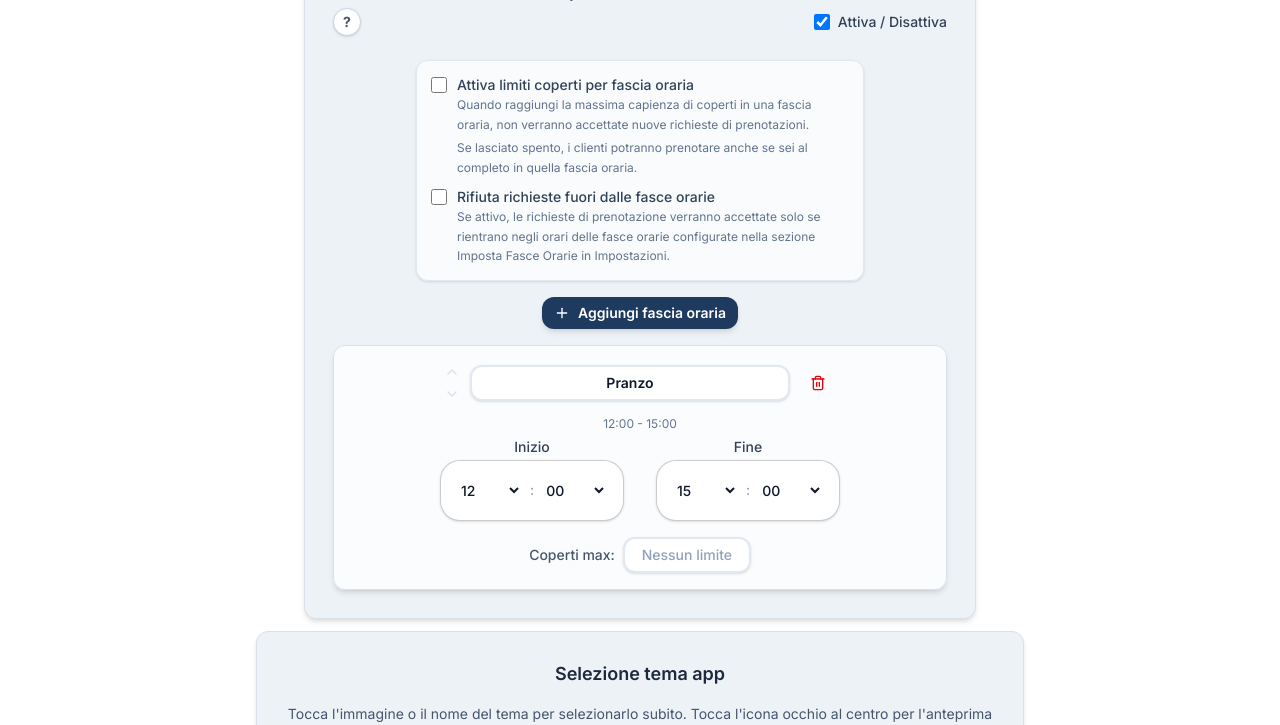
Scenario: settings-time-slots M4 — fasce Classic in RestaurantSettingsTab › elimina fascia: Conferma rimuove la riga dall’editor
The width and height of the screenshot is (1280, 725).
(page scrolled)
Click the button named "rimuovi fascia pranzo". click: coordinates (818, 383)
box: [798, 369, 838, 397]
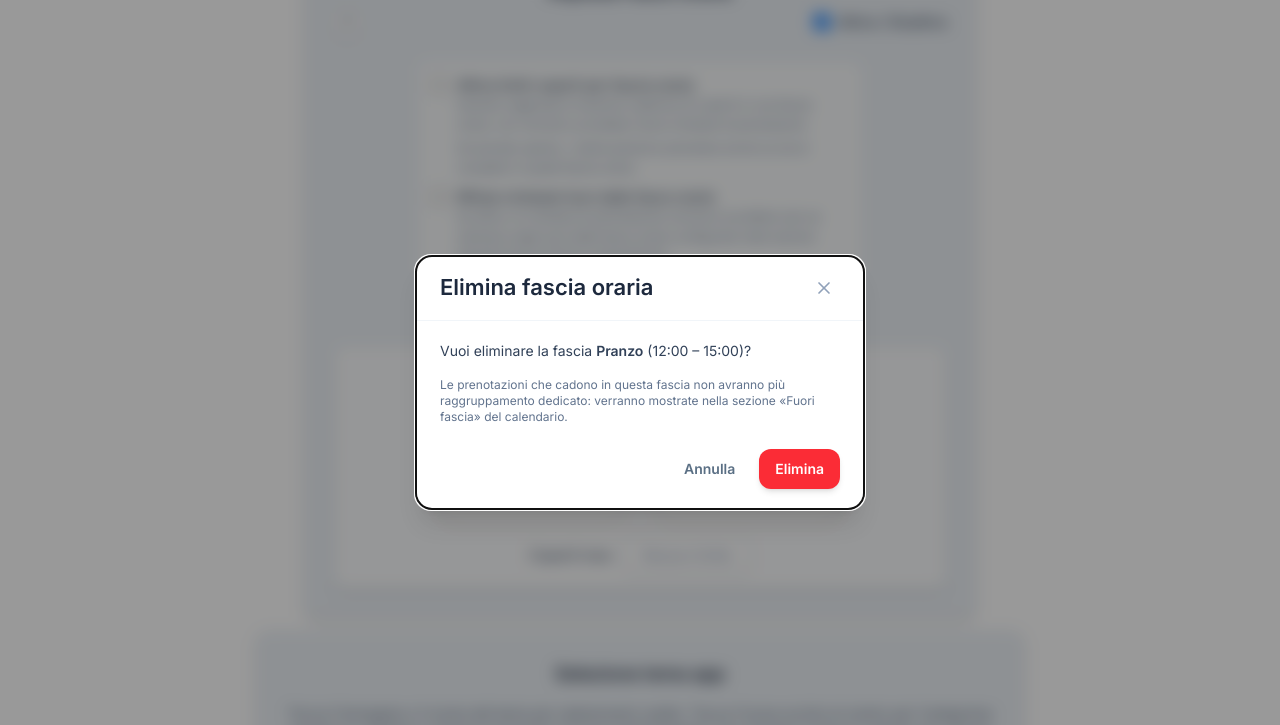
Click the button "Elimina". click: coordinates (800, 468)
box: [759, 448, 840, 488]
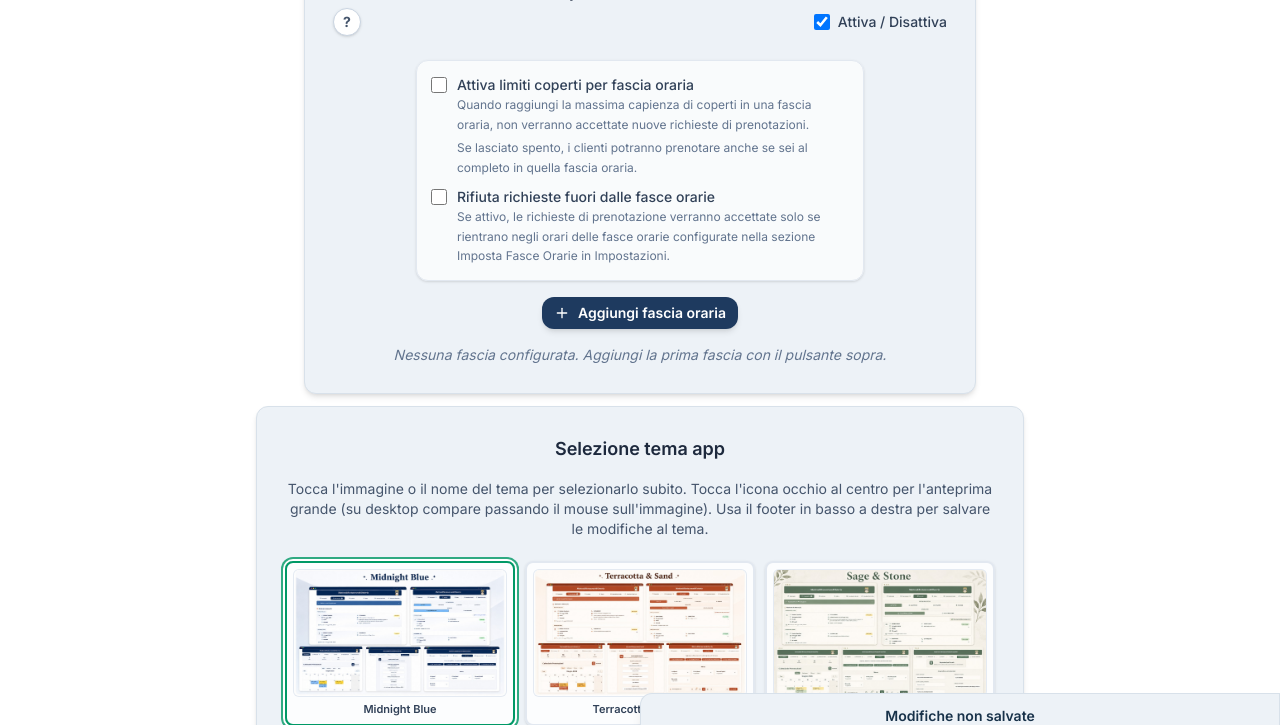
Result: the text "Nessuna fascia configurata" is shown at [394, 346, 886, 363]
